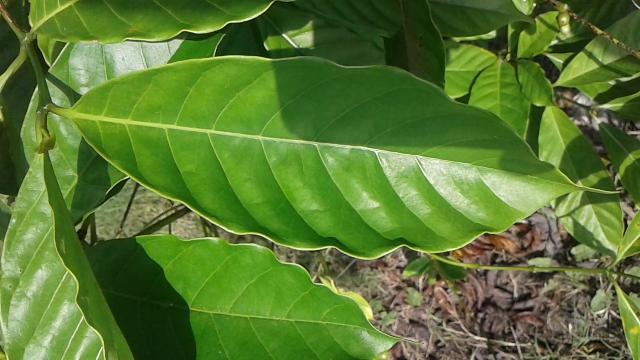healthy: (70, 57, 618, 256)
